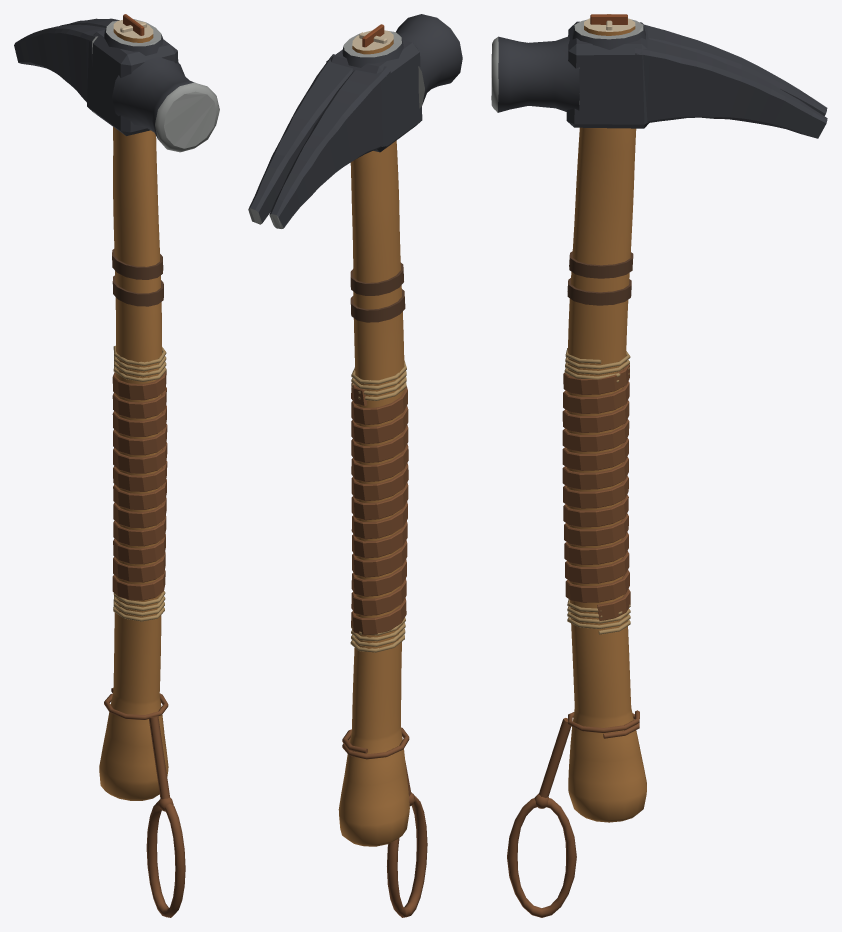
Rendered from tool_hammer.fbx.
The picture shows the model from 3 angles, left to right: view 1: azimuth 30°, elevation 25°; view 2: azimuth 150°, elevation 25°; view 3: azimuth 270°, elevation 25°; orthographic projection. The views are drawn at different scales.
Parts seen in each view (by area): view 1: Tool_Hammer_Handle, Tool_Hammer_Head, Tool_Hammer_Grip, Tool_Hammer_Thong; view 2: Tool_Hammer_Handle, Tool_Hammer_Head, Tool_Hammer_Grip, Tool_Hammer_Thong; view 3: Tool_Hammer_Handle, Tool_Hammer_Head, Tool_Hammer_Grip, Tool_Hammer_Thong.
Boxes of the visible parts, x1,y1,x2,y2 form: Tool_Hammer_Handle: [99, 20, 168, 800]; Tool_Hammer_Head: [14, 18, 219, 152]; Tool_Hammer_Grip: [112, 345, 167, 621]; Tool_Hammer_Thong: [104, 688, 185, 917]; Tool_Hammer_Handle: [338, 30, 409, 846]; Tool_Hammer_Head: [248, 14, 462, 228]; Tool_Hammer_Grip: [350, 360, 408, 652]; Tool_Hammer_Thong: [342, 727, 427, 917]; Tool_Hammer_Handle: [567, 18, 646, 822]; Tool_Hammer_Head: [491, 19, 827, 138]; Tool_Hammer_Grip: [562, 348, 630, 634]; Tool_Hammer_Thong: [507, 710, 639, 917].
Size of the model in its own units: 6.33 by 74 by 24.96.
